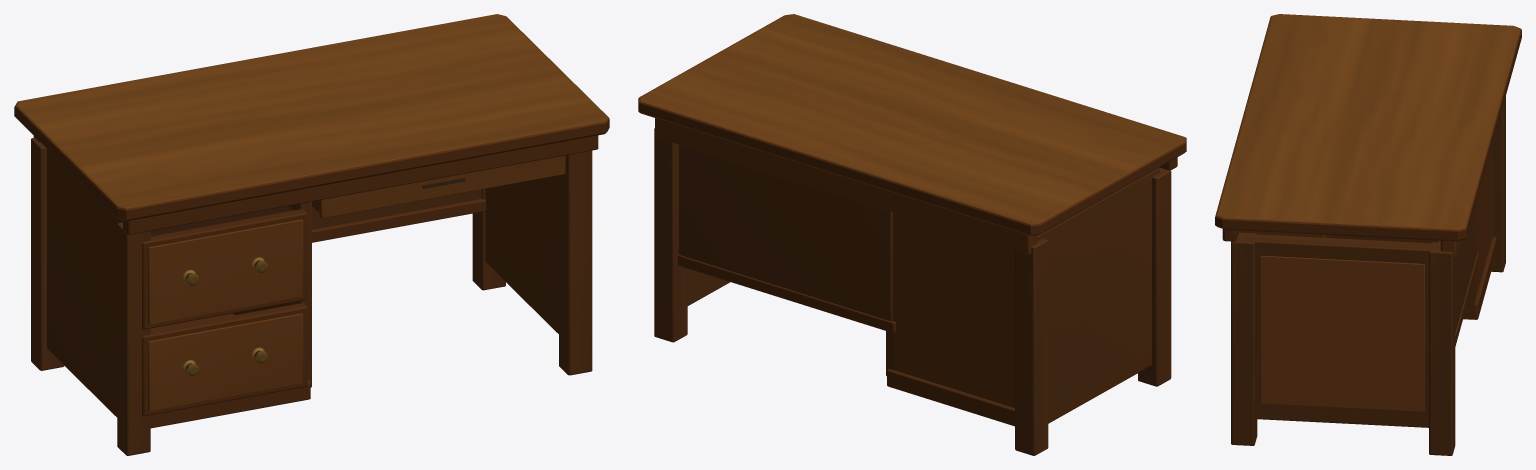
The model's file is SM_StudyDesk.fbx.
The picture shows the model from 3 angles, left to right: view 1: azimuth 30°, elevation 25°; view 2: azimuth 150°, elevation 25°; view 3: azimuth 270°, elevation 25°; orthographic projection. The views are drawn at different scales.
Visible parts, largest first — view 1: SM_StudyDesk; view 2: SM_StudyDesk; view 3: SM_StudyDesk.
Part boxes in pixels (bbox=[...]): SM_StudyDesk: bbox=[14, 14, 609, 455]; SM_StudyDesk: bbox=[638, 14, 1186, 455]; SM_StudyDesk: bbox=[1215, 14, 1521, 455].
Size of what is drawn, in the model's own units: 0.7655 by 0.4577 by 0.3827.
